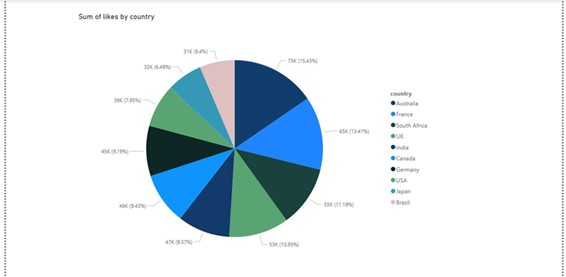

The page's visual inventory and layout, read from the dashboard file:
{"tool":"powerbi","page":{"name":"Page 1","canvas":[1280,720],"ordinal":1},"visuals":[{"type":"pieChart","fields":{"Category":["social_media_analysis.country"],"Y":["Sum(social_media_analysis.likes)"]},"box":[161.9,27.5,822.3,607],"z":0}]}

Visuals, with their boxes on the page's 1280x720 design canvas (x1, y1, x2, y2). These are canvas units, not pixel positions in the 566x277 screenshot, which may show the page scaled, cropped or inside an application window:
pieChart - social_media_analysis.country x Sum(social_media_analysis.likes): [left=162, top=28, right=984, bottom=634]
